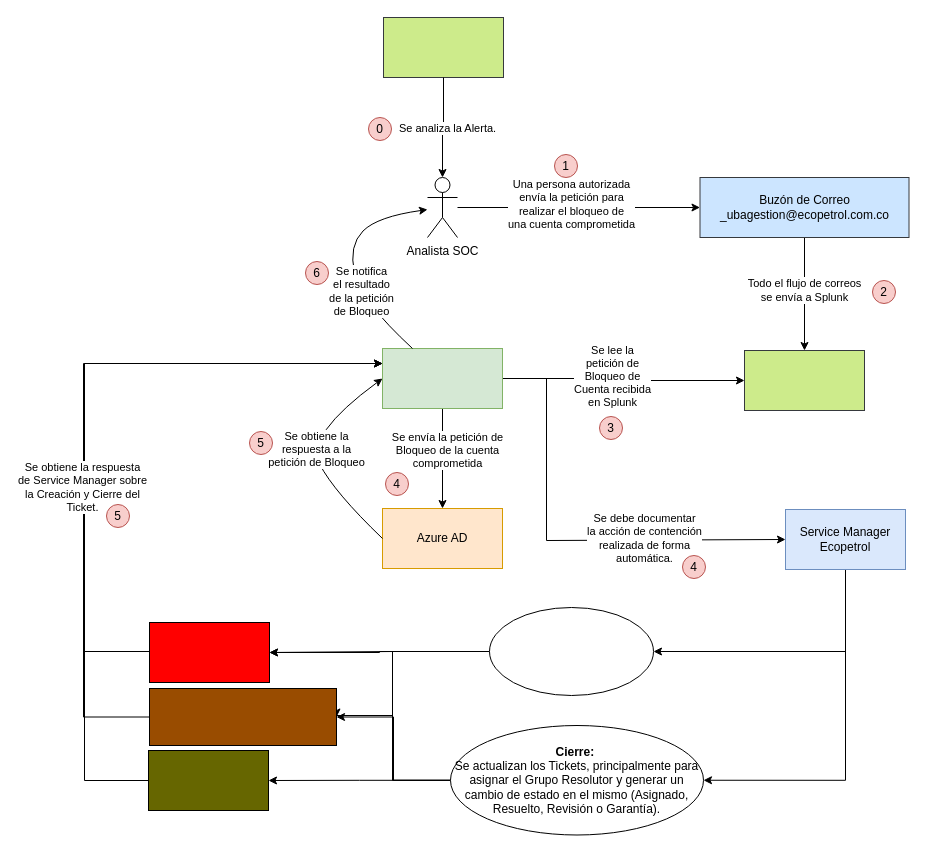
Some shapes in this 926 by 853 pixel diagram are drawn without their labels. The centre of each missing label's shape, as x and y in pixels:
"Creación: Se crean los Tickets con la información relevante de las Alertas." belongs at point (571, 651).
"Incidentes IM" belongs at point (209, 652).
"Interacciones SD" belongs at point (208, 780).
"Requerimientos/Peticiones RF" belongs at point (242, 717).
"Splunk Enterprise Security (Alerta)" belongs at point (443, 47).
"Splunk Index: sec-mail" belongs at point (804, 380).
"XSOAR" belongs at point (442, 378).
